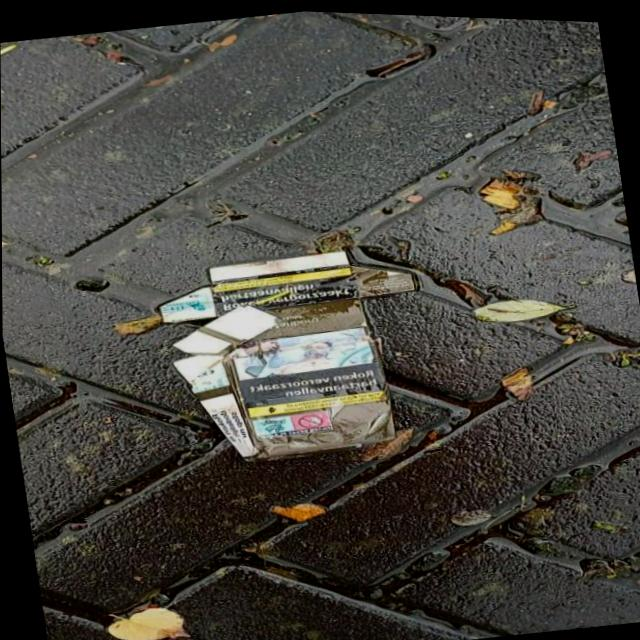Paper: (145, 229, 443, 480)
